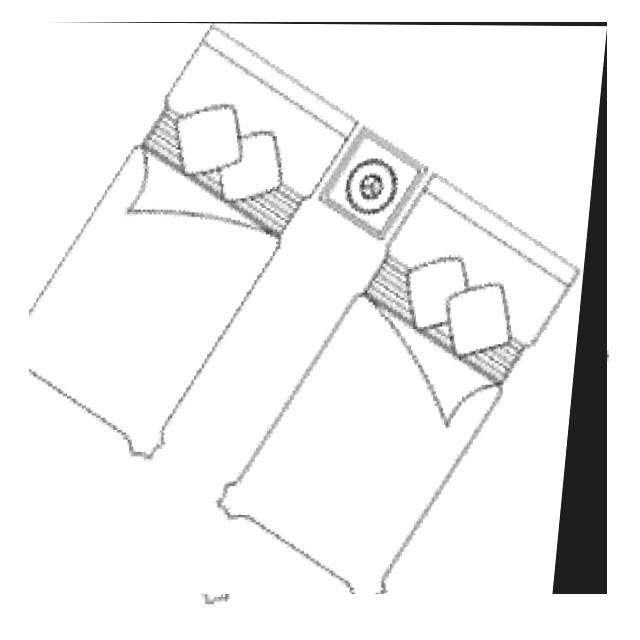bed: (29, 22, 607, 594)
